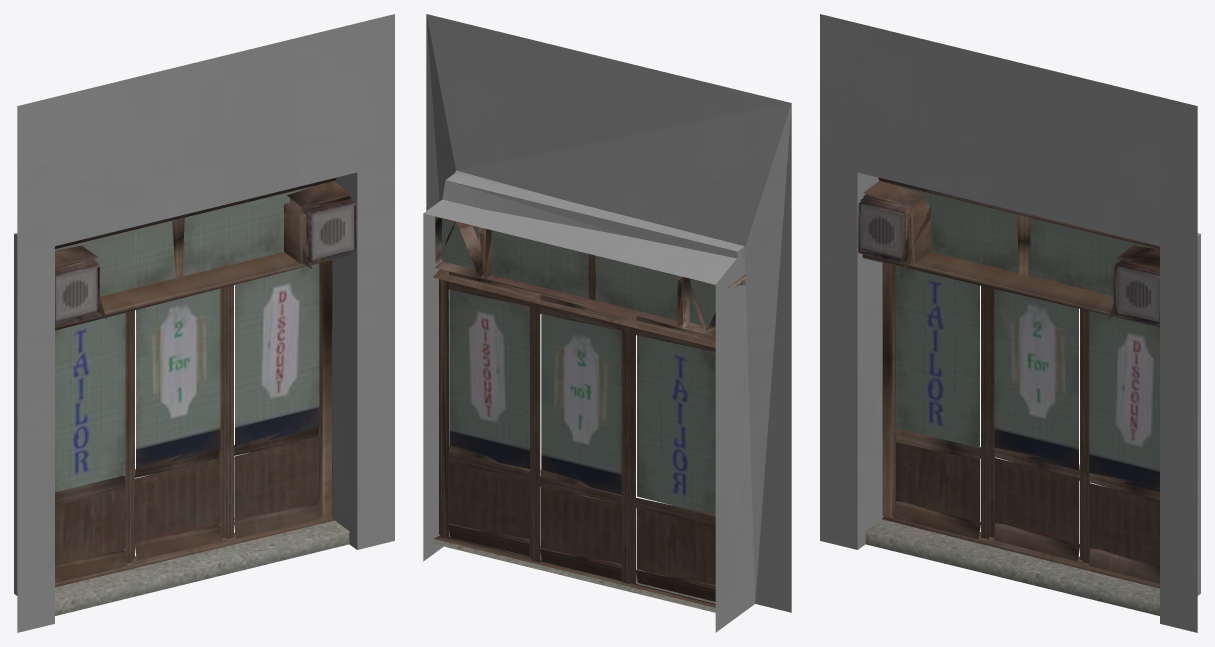
File: sm_slum_storefront01.glb
3 views of the same model, side by side, from view 1: azimuth 30°, elevation 25°; view 2: azimuth 150°, elevation 25°; view 3: azimuth 330°, elevation 25° (orthographic). The views are drawn at different scales.
Parts seen in each view (by area): view 1: sm_slum_storefront01_00; view 2: sm_slum_storefront01_00; view 3: sm_slum_storefront01_00.
Part boxes in pixels (bbox=[...]): sm_slum_storefront01_00: bbox=[14, 14, 394, 632]; sm_slum_storefront01_00: bbox=[423, 14, 791, 632]; sm_slum_storefront01_00: bbox=[820, 14, 1200, 632].
Size of the model in its own units: 3 by 4 by 0.6143.
2 materials, 2 textured.
